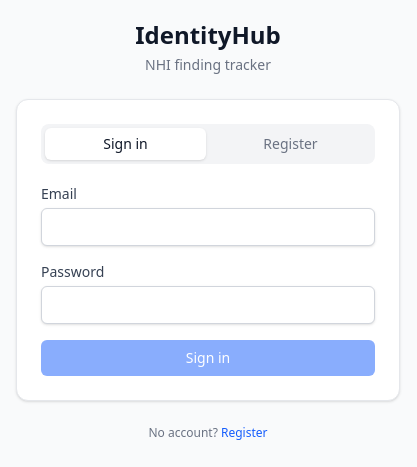
LoginPage — mode toggle › switches to register mode when the Register tab is clicked
Step 1. Click the button "Register" → click(290, 144), box [210,128,371,160]
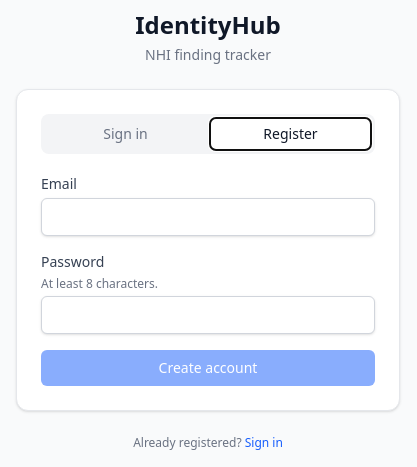
Expected: the button "Create account" is shown, [41,350,375,386]
